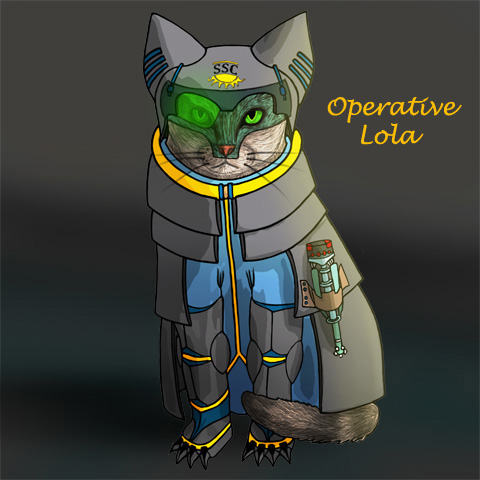cat: (143, 6, 419, 480)
